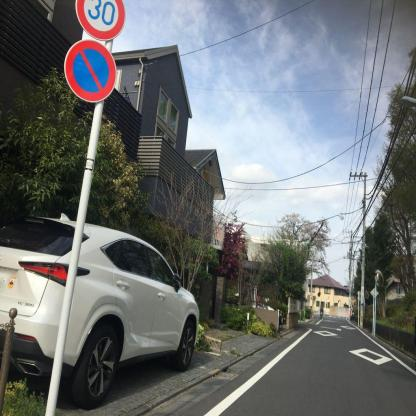Someiyoshino: (275, 207, 339, 282)
